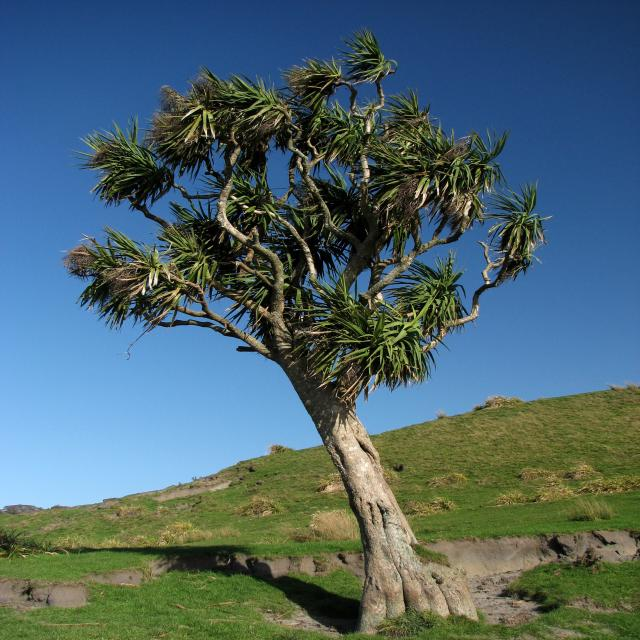Cordyline australis: (87, 45, 548, 618)
